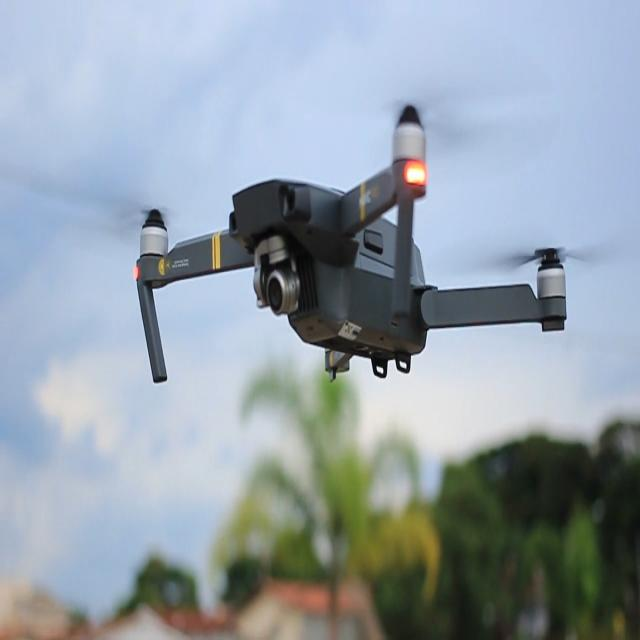Drone: (134, 106, 567, 385)
